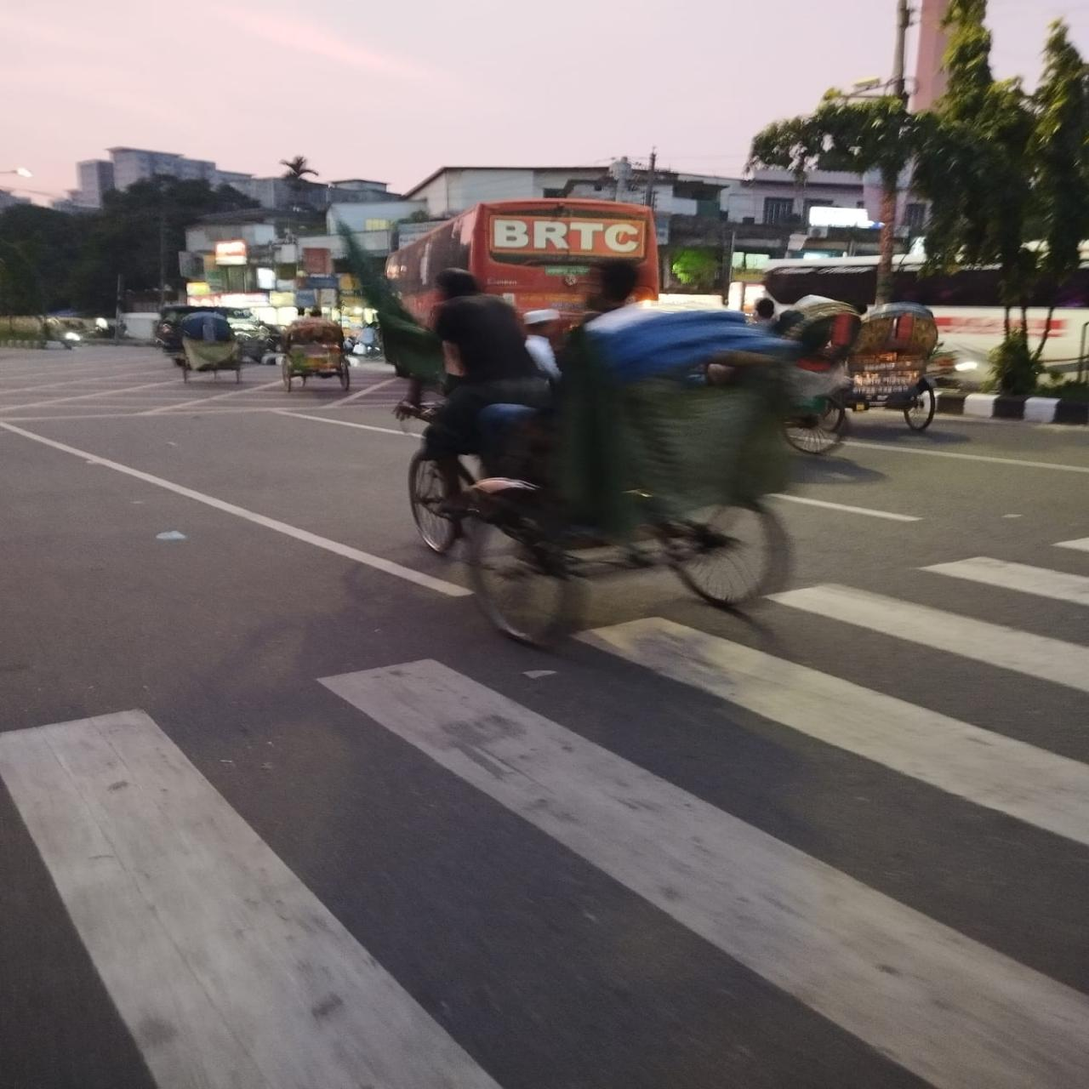person: (520, 310, 559, 380)
